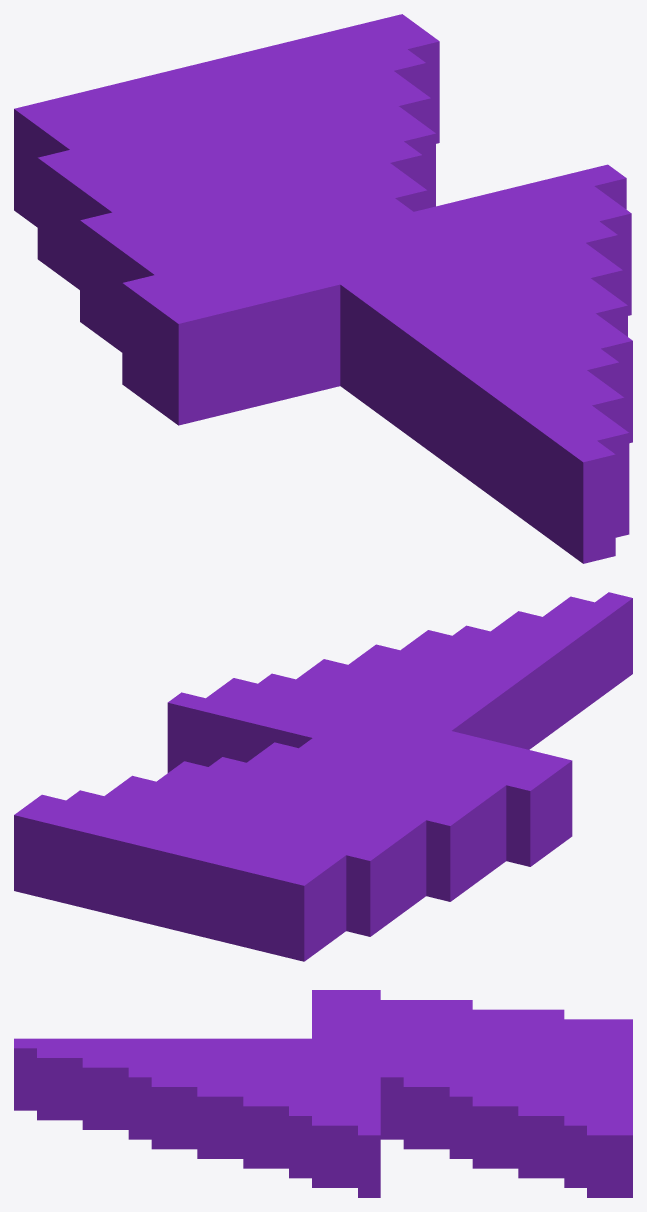
The model's file is trueno.glb.
3 renders of one model, top to bottom at view 1: azimuth 30°, elevation 25°; view 2: azimuth 150°, elevation 25°; view 3: azimuth 270°, elevation 25°, orthographic. The views are drawn at different scales.
Visible parts, largest first — view 1: path52324; view 2: path52324; view 3: path52324.
Boxes of the visible parts, x1,y1,x2,y2 form: path52324: [14, 14, 632, 563]; path52324: [14, 592, 632, 961]; path52324: [14, 990, 632, 1197].
Size of the model in its own units: 0.1824 by 0.0365 by 0.3284.
